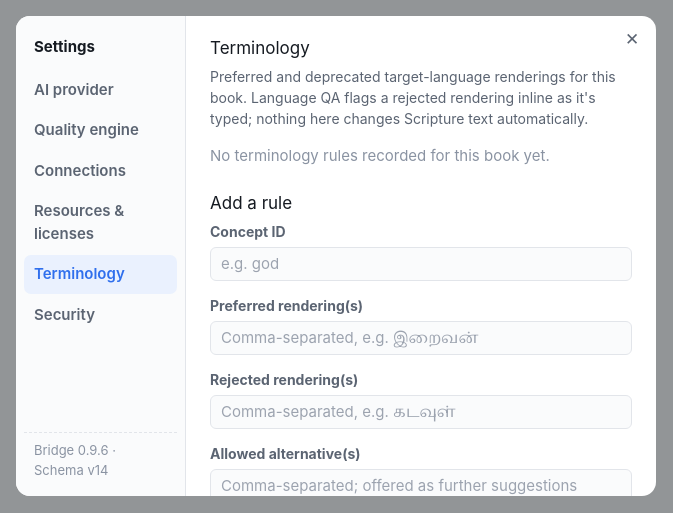
Test case: SettingsModal terminology (#171) › adds a rule, splitting comma-separated renderings, and refreshes the list from the response
Expected: the text "No terminology rules recorded for this book yet." is shown, top-left (210, 146), bottom-right (550, 164)
In the field labelled "Concept ID": (421, 264) top-left (210, 246), bottom-right (632, 280), type "god"
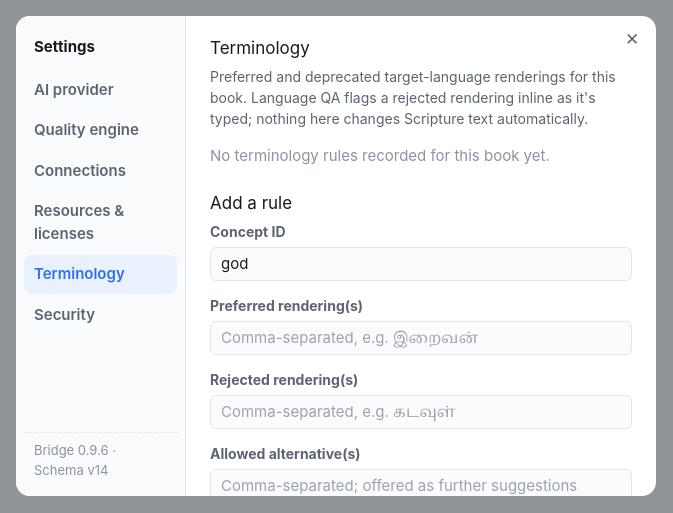
In the field labelled "Preferred rendering(s)": (421, 338) top-left (210, 320), bottom-right (632, 354), type "இறைவன்"
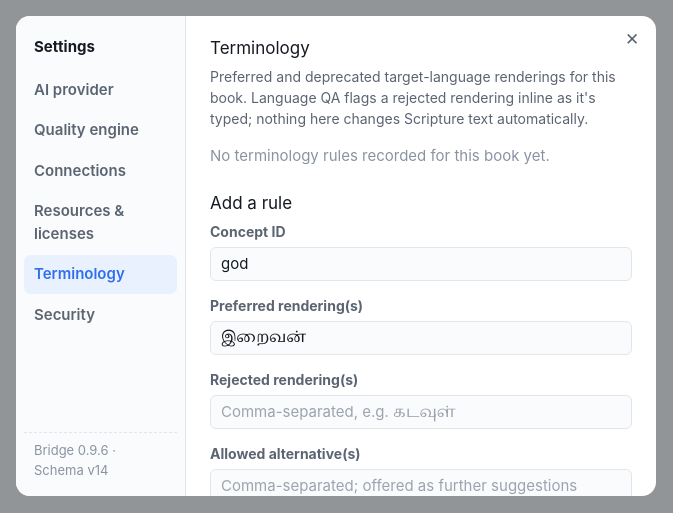
In the field labelled "Rejected rendering(s)": (421, 412) top-left (210, 394), bottom-right (632, 428), type "கடவுள், தேவன்"
(page scrolled)
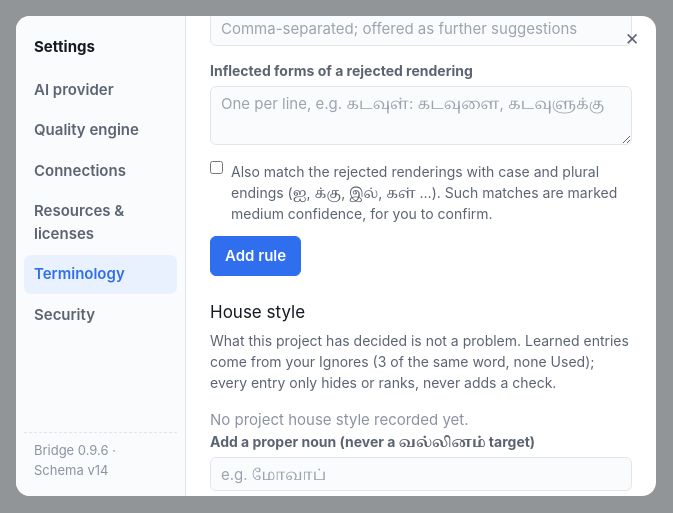
Click the button "Add rule": (256, 256) top-left (210, 236), bottom-right (301, 276)
(page scrolled)
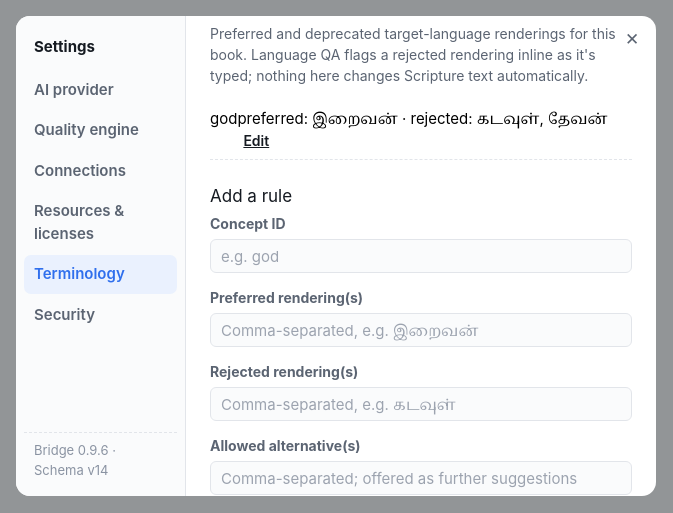
Expected: the text "No terminology rules recorded" is not shown
Expected: the text "god" is shown, top-left (210, 108), bottom-right (237, 128)
Expected: the field labelled "Concept ID" is empty, top-left (210, 239), bottom-right (632, 273)
